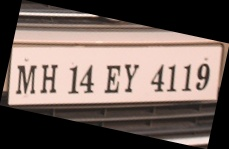character: (15, 65, 36, 94), (39, 64, 57, 93), (104, 64, 121, 93), (122, 63, 139, 92), (79, 65, 94, 94), (150, 64, 165, 92), (195, 63, 210, 90), (67, 65, 78, 94), (182, 63, 192, 91), (167, 63, 176, 93)
